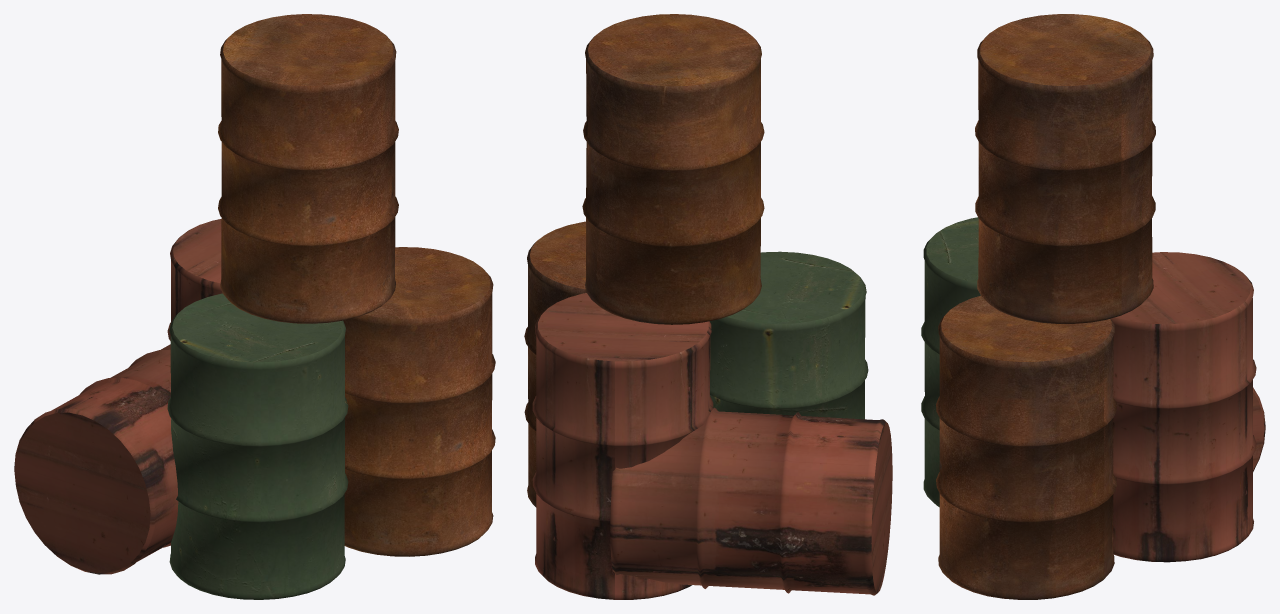
Rendered from varil_yigini.gltf.
3 renders of one model, left to right at view 1: azimuth 30°, elevation 25°; view 2: azimuth 150°, elevation 25°; view 3: azimuth 270°, elevation 25°, orthographic.
Visible parts, largest first — view 1: varil_yigini; view 2: varil_yigini; view 3: varil_yigini.
Boxes of the visible parts, bbox=[...] form: varil_yigini: bbox=[14, 14, 495, 599]; varil_yigini: bbox=[524, 14, 892, 599]; varil_yigini: bbox=[921, 14, 1265, 599].
Size of what is drawn, in the model's own units: 1.56 by 1.77 by 1.15.
3 materials, 3 textured.
